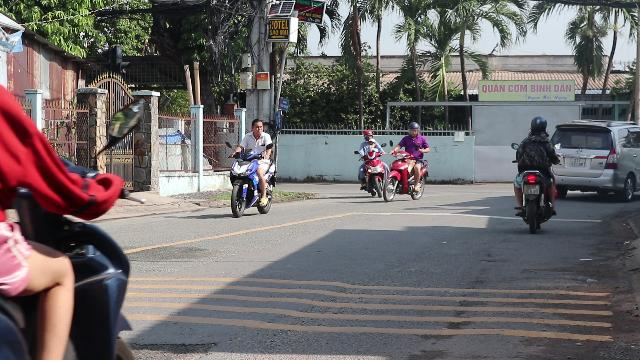helmet: (528, 115, 548, 135)
licenseplate: (524, 186, 540, 194)
motorcyclist: (510, 114, 560, 232), (225, 118, 277, 218)
nohelmet: (250, 119, 264, 135)
